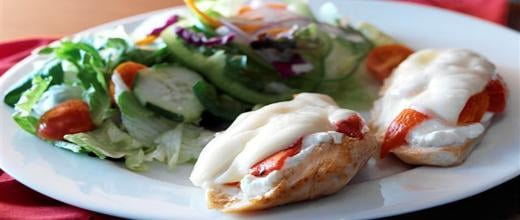soup: (189, 91, 381, 212)
